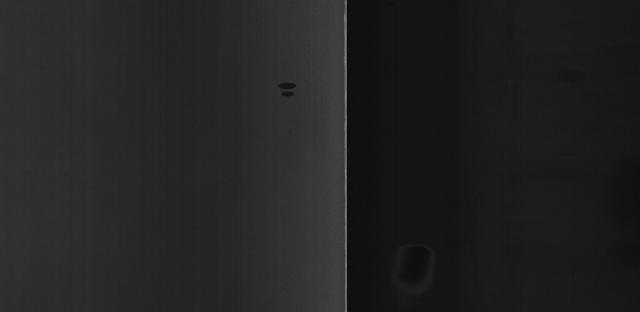oil_spot: (265, 74, 308, 101)
